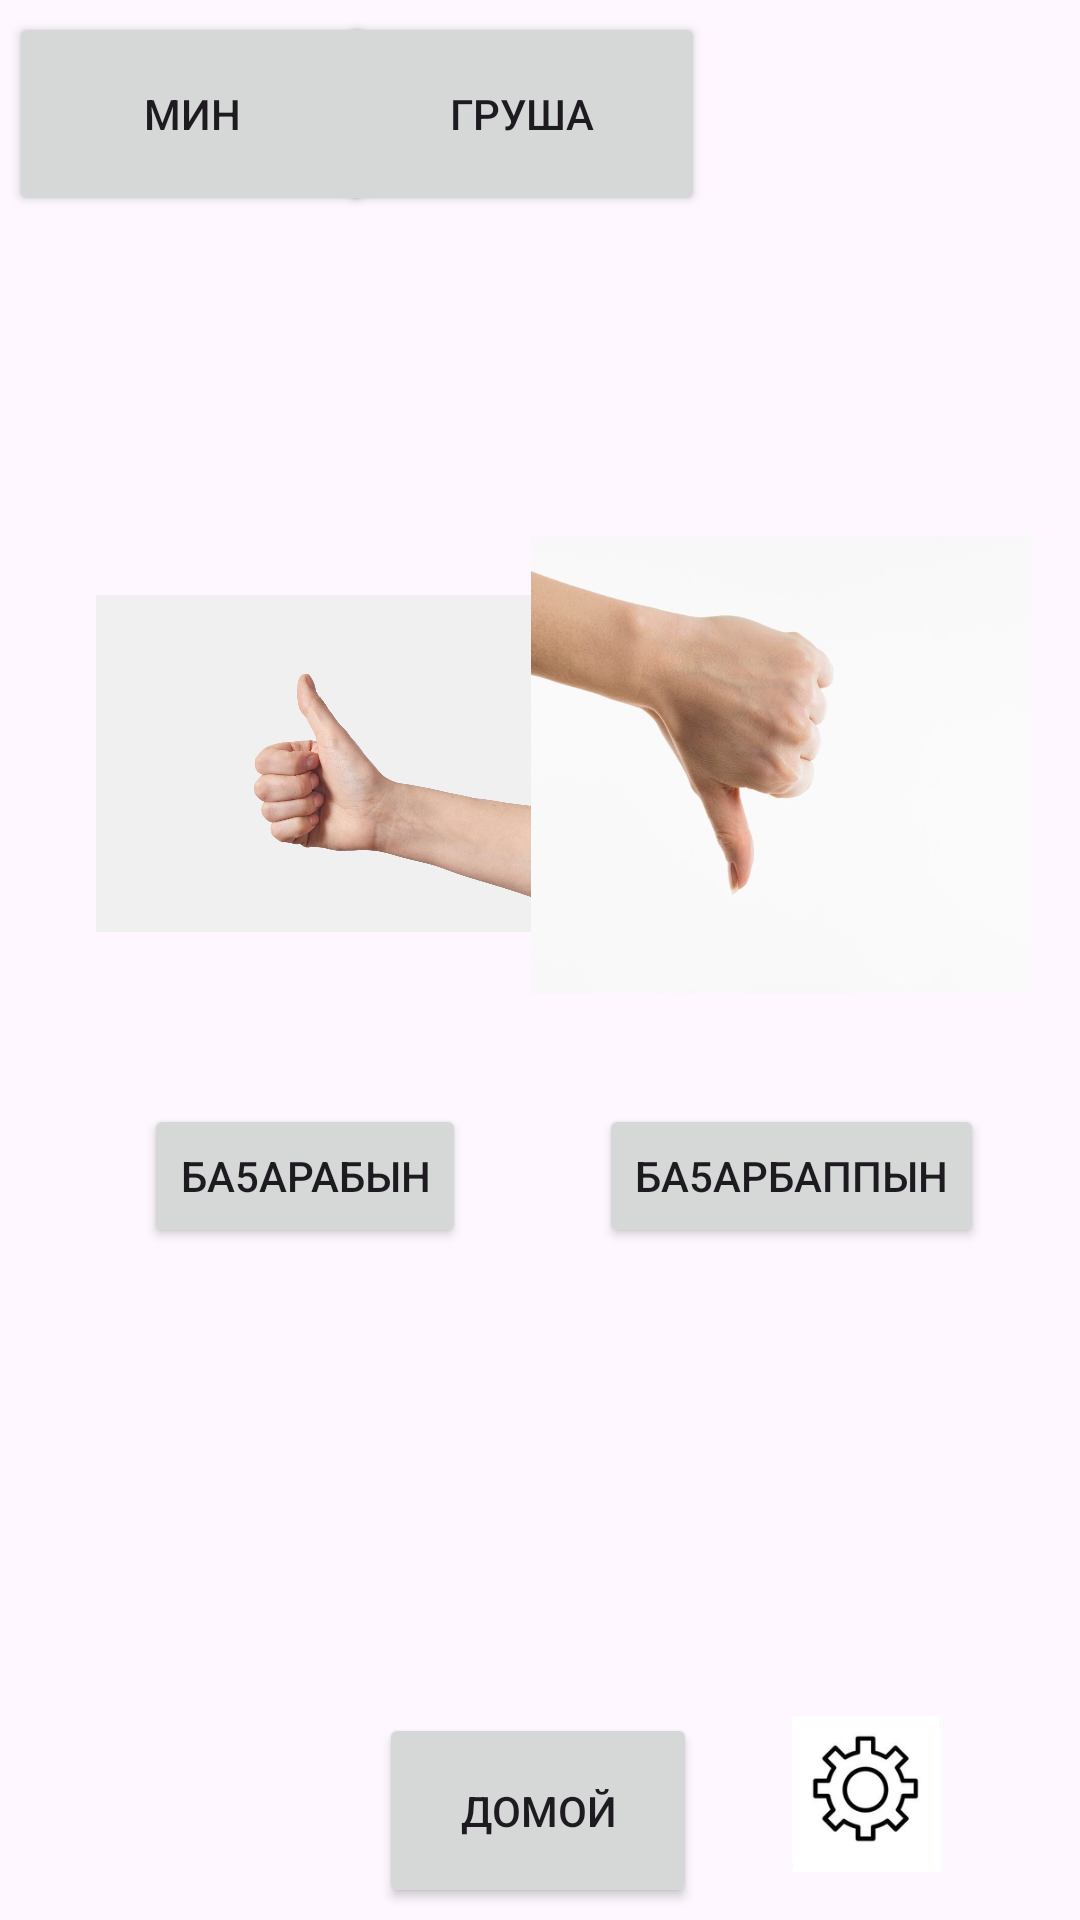

Point at icon controls on the screen. Image size 1080 x 1920, points as [x,y].
settings: [865,1789]
wantnt: [682,732]
